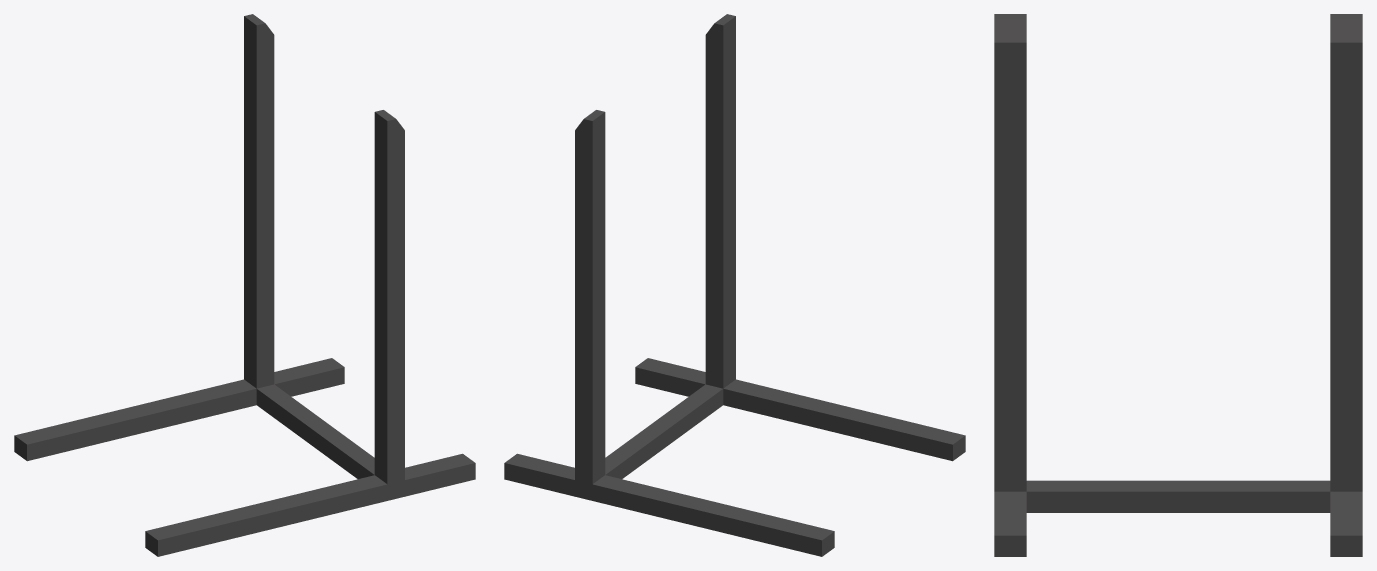
The model's file is SM_Prop_LogPile_Stand_01.fbx.
The picture shows the model from 3 angles, left to right: view 1: azimuth 30°, elevation 25°; view 2: azimuth 150°, elevation 25°; view 3: azimuth 270°, elevation 25°; orthographic projection. The views are drawn at different scales.
Visible parts, largest first — view 1: SM_Prop_LogPile_Stand_01; view 2: SM_Prop_LogPile_Stand_01; view 3: SM_Prop_LogPile_Stand_01.
Part boxes in pixels (bbox=[...]): SM_Prop_LogPile_Stand_01: bbox=[14, 14, 475, 556]; SM_Prop_LogPile_Stand_01: bbox=[504, 14, 965, 556]; SM_Prop_LogPile_Stand_01: bbox=[994, 14, 1362, 556].
Bounding box in the file's own units: 488 × 557 × 381.
